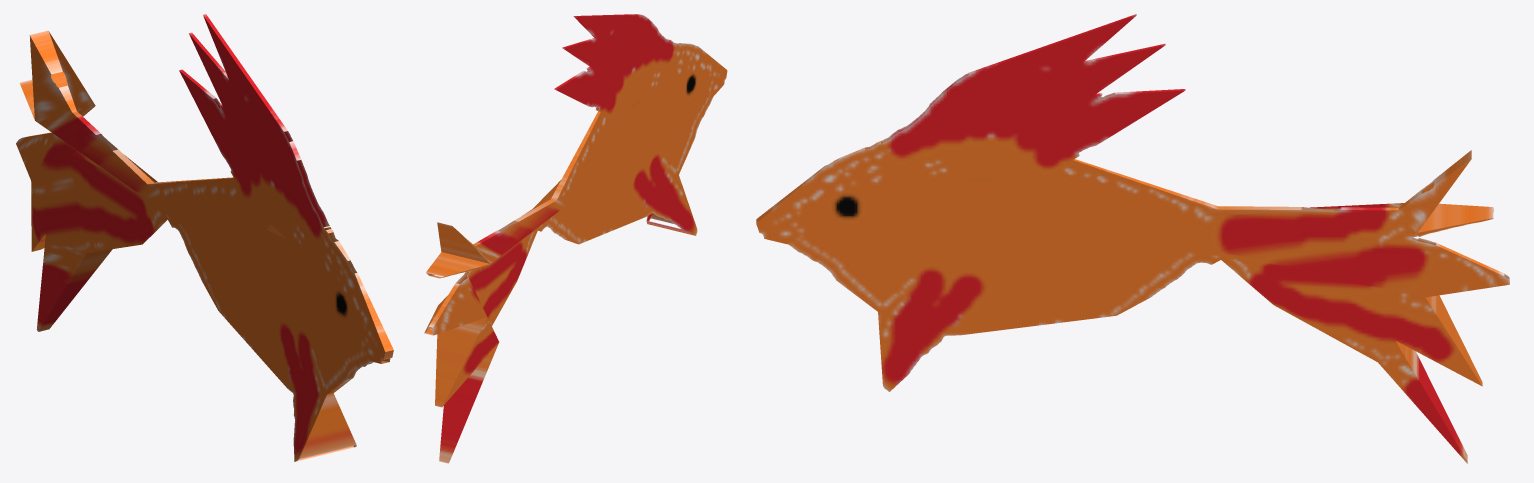
File: fish.fbx
3 views of the same model, side by side, from view 1: azimuth 30°, elevation 25°; view 2: azimuth 150°, elevation 25°; view 3: azimuth 270°, elevation 25° (orthographic). The views are drawn at different scales.
Visible parts, largest first — view 1: fish; view 2: fish; view 3: fish.
Part boxes in pixels (box(x1,y1,x2,y2)): fish: box(16, 14, 393, 461); fish: box(424, 14, 727, 463); fish: box(756, 14, 1509, 463).
Size of the model in its own units: 0.0743 by 0.4765 by 0.7301.
